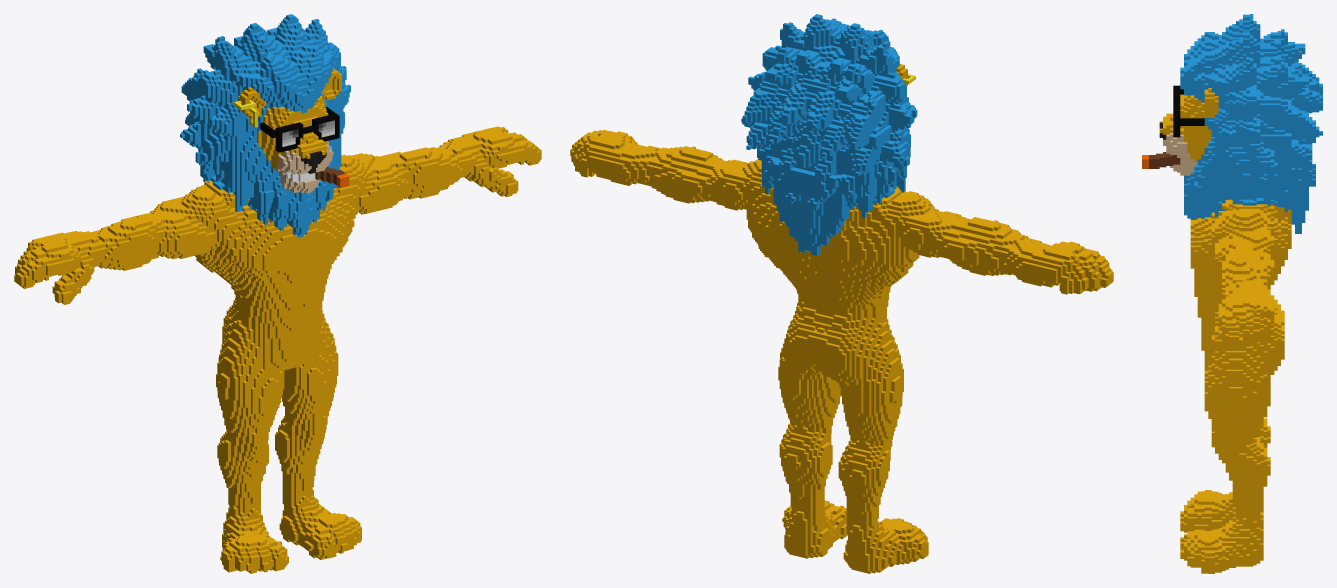
The model's file is 360-DnCJnWO4.glb.
3 renders of one model, left to right at view 1: azimuth 30°, elevation 25°; view 2: azimuth 150°, elevation 25°; view 3: azimuth 270°, elevation 25°, orthographic. The views are drawn at different scales.
Visible parts, largest first — view 1: cigar; view 2: cigar; view 3: cigar.
Part boxes in pixels (<box>): cigar: <box>14,14,541,573</box>; cigar: <box>570,14,1113,573</box>; cigar: <box>1142,14,1322,573</box>.
Size of the model in its own units: 17.2 by 16.5 by 5.2.
5 materials, 5 textured.
